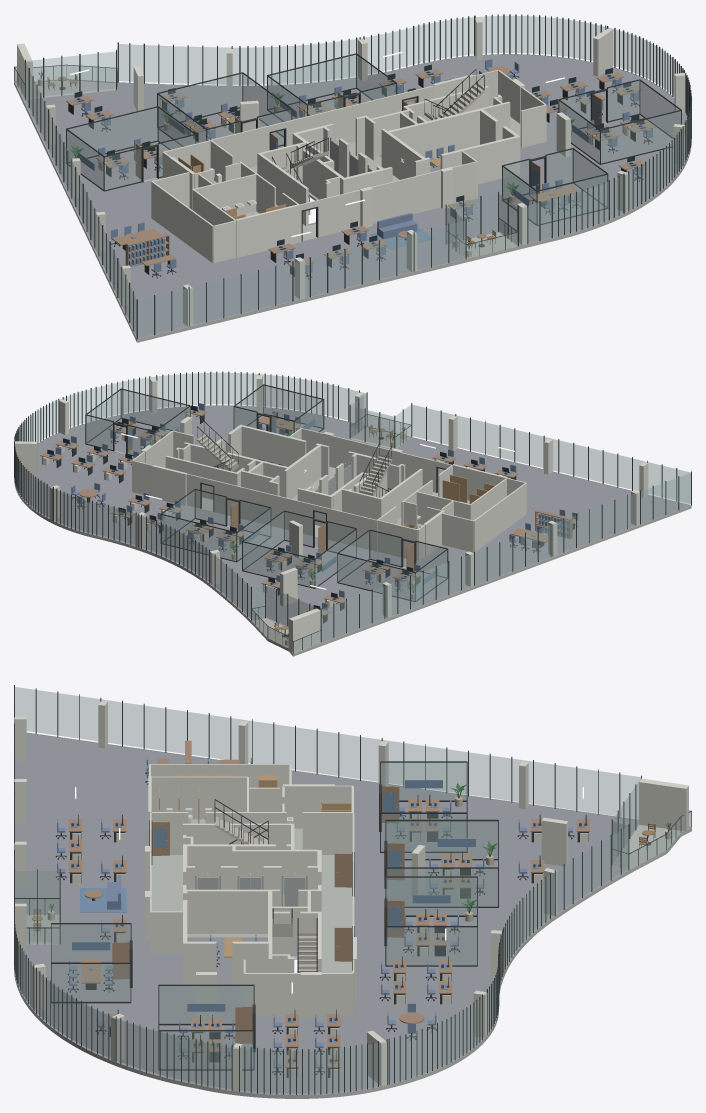
The model's file is office-floor-05-r3.glb.
3 views of the same model, one above another, from view 1: azimuth 30°, elevation 25°; view 2: azimuth 150°, elevation 25°; view 3: azimuth 270°, elevation 25° (orthographic). The views are drawn at different scales.
Visible parts, largest first — view 1: SOURCE FLOOR | registered floor slab, SOURCE TRACED PARTITION | corrected R3 tenant south.001, R3 PROPOSED PARTITION | team-north-west.002, SOURCE WALL | 57, R3 PROPOSED PARTITION | team-north-east.002, SOURCE WALL | 170, R3 PROPOSED PARTITION | project-east.002, SOURCE TRACED PARTITION | service corridor.015, R3 PROPOSED PARTITION | team-north-centre.002, SOURCE TRACED PARTITION | corrected R3 tenant north.001, SOURCE WALL | 60, R3 PROPOSED PARTITION | boardroom-south.002 (+76 smaller); view 2: SOURCE FLOOR | registered floor slab, SOURCE TRACED PARTITION | corrected R3 tenant north.001, SOURCE TRACED PARTITION | corrected R3 tenant south.001, R3 PROPOSED PARTITION | team-north-west.002, SOURCE WALL | 60, R3 PROPOSED PARTITION | team-north-centre.002, R3 PROPOSED PARTITION | team-north-east.002, SOURCE TRACED PARTITION | service corridor.015, R3 PROPOSED PARTITION | project-east.002, SOURCE TRACED PARTITION | corrected R3 tenant north, SOURCE FLOOR | slab edge, R3 PROPOSED PARTITION | boardroom-south.002 (+50 smaller); view 3: SOURCE FLOOR | registered floor slab, SOURCE CORRIDOR | circulation finish, SOURCE WALL | 56, SOURCE TRACED PARTITION | service corridor.021, R3 PROPOSED PARTITION | team-north-centre.001, SOURCE TRACED PARTITION | service corridor.010, R3 PROPOSED PARTITION | team-north-east.001, R3 PROPOSED PARTITION | team-north-centre, R3 PROPOSED PARTITION | boardroom-south.001, R3 PROPOSED PARTITION | project-east, R3 PROPOSED PARTITION | team-north-east, R3 PROPOSED PARTITION | team-north-west.001 (+55 smaller).
Boxes of the visible parts, bbox=[...] form: SOURCE FLOOR | registered floor slab: bbox=[17, 54, 687, 338]; SOURCE TRACED PARTITION | corrected R3 tenant south.001: bbox=[317, 161, 476, 237]; R3 PROPOSED PARTITION | team-north-west.002: bbox=[67, 108, 157, 158]; SOURCE WALL | 57: bbox=[388, 108, 482, 158]; R3 PROPOSED PARTITION | team-north-east.002: bbox=[268, 55, 355, 103]; SOURCE WALL | 170: bbox=[235, 204, 300, 257]; R3 PROPOSED PARTITION | project-east.002: bbox=[601, 111, 680, 163]; SOURCE TRACED PARTITION | service corridor.015: bbox=[151, 181, 213, 262]; R3 PROPOSED PARTITION | team-north-centre.002: bbox=[158, 74, 242, 121]; SOURCE TRACED PARTITION | corrected R3 tenant north.001: bbox=[285, 93, 401, 146]; SOURCE WALL | 60: bbox=[440, 136, 516, 184]; R3 PROPOSED PARTITION | boardroom-south.002: bbox=[538, 175, 607, 223]; SOURCE FLOOR | registered floor slab: bbox=[19, 405, 690, 648]; SOURCE TRACED PARTITION | corrected R3 tenant north.001: bbox=[214, 480, 313, 535]; SOURCE TRACED PARTITION | corrected R3 tenant south.001: bbox=[301, 428, 436, 492]; R3 PROPOSED PARTITION | team-north-west.002: bbox=[338, 554, 414, 600]; SOURCE WALL | 60: bbox=[241, 425, 306, 466]; R3 PROPOSED PARTITION | team-north-centre.002: bbox=[243, 542, 314, 587]; R3 PROPOSED PARTITION | team-north-east.002: bbox=[161, 515, 235, 560]; SOURCE TRACED PARTITION | service corridor.015: bbox=[474, 483, 526, 551]; R3 PROPOSED PARTITION | project-east.002: bbox=[121, 390, 189, 431]; SOURCE TRACED PARTITION | corrected R3 tenant north: bbox=[327, 508, 377, 551]; SOURCE FLOOR | slab edge: bbox=[293, 505, 691, 656]; R3 PROPOSED PARTITION | boardroom-south.002: bbox=[264, 385, 322, 427]; SOURCE FLOOR | registered floor slab: bbox=[15, 733, 638, 1094]; SOURCE CORRIDOR | circulation finish: bbox=[151, 855, 352, 972]; SOURCE WALL | 56: bbox=[183, 889, 272, 933]; SOURCE TRACED PARTITION | service corridor.021: bbox=[244, 973, 352, 1015]; R3 PROPOSED PARTITION | team-north-centre.001: bbox=[386, 869, 497, 906]; SOURCE TRACED PARTITION | service corridor.010: bbox=[151, 776, 247, 819]; R3 PROPOSED PARTITION | team-north-east.001: bbox=[386, 927, 476, 964]; R3 PROPOSED PARTITION | team-north-centre: bbox=[386, 821, 497, 858]; R3 PROPOSED PARTITION | boardroom-south.001: bbox=[52, 964, 130, 1001]; R3 PROPOSED PARTITION | project-east: bbox=[159, 986, 253, 1023]; R3 PROPOSED PARTITION | team-north-east: bbox=[386, 878, 476, 915]; R3 PROPOSED PARTITION | team-north-west.001: bbox=[381, 814, 466, 851].
Bounding box in the file's own units: 49.76 × 5.32 × 39.12.
